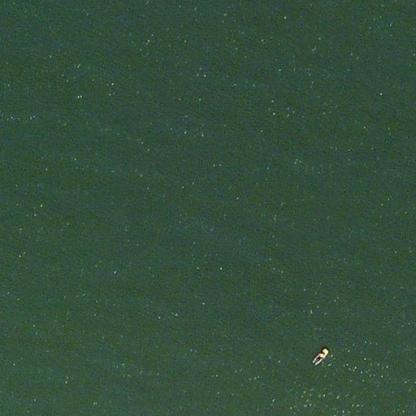ship: (308, 341, 332, 368)
